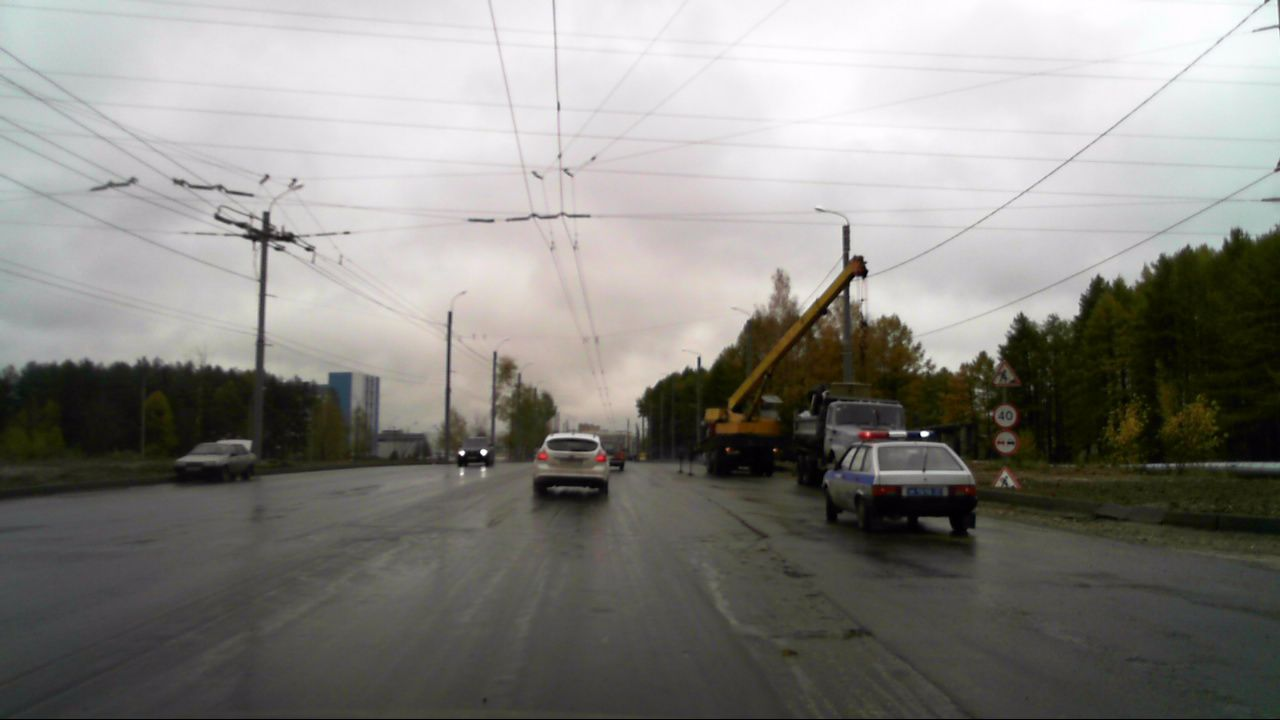speed_warning_40: (991, 402, 1018, 428)
